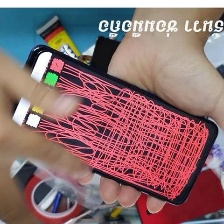phone: (0, 40, 220, 211), (127, 160, 224, 223)
